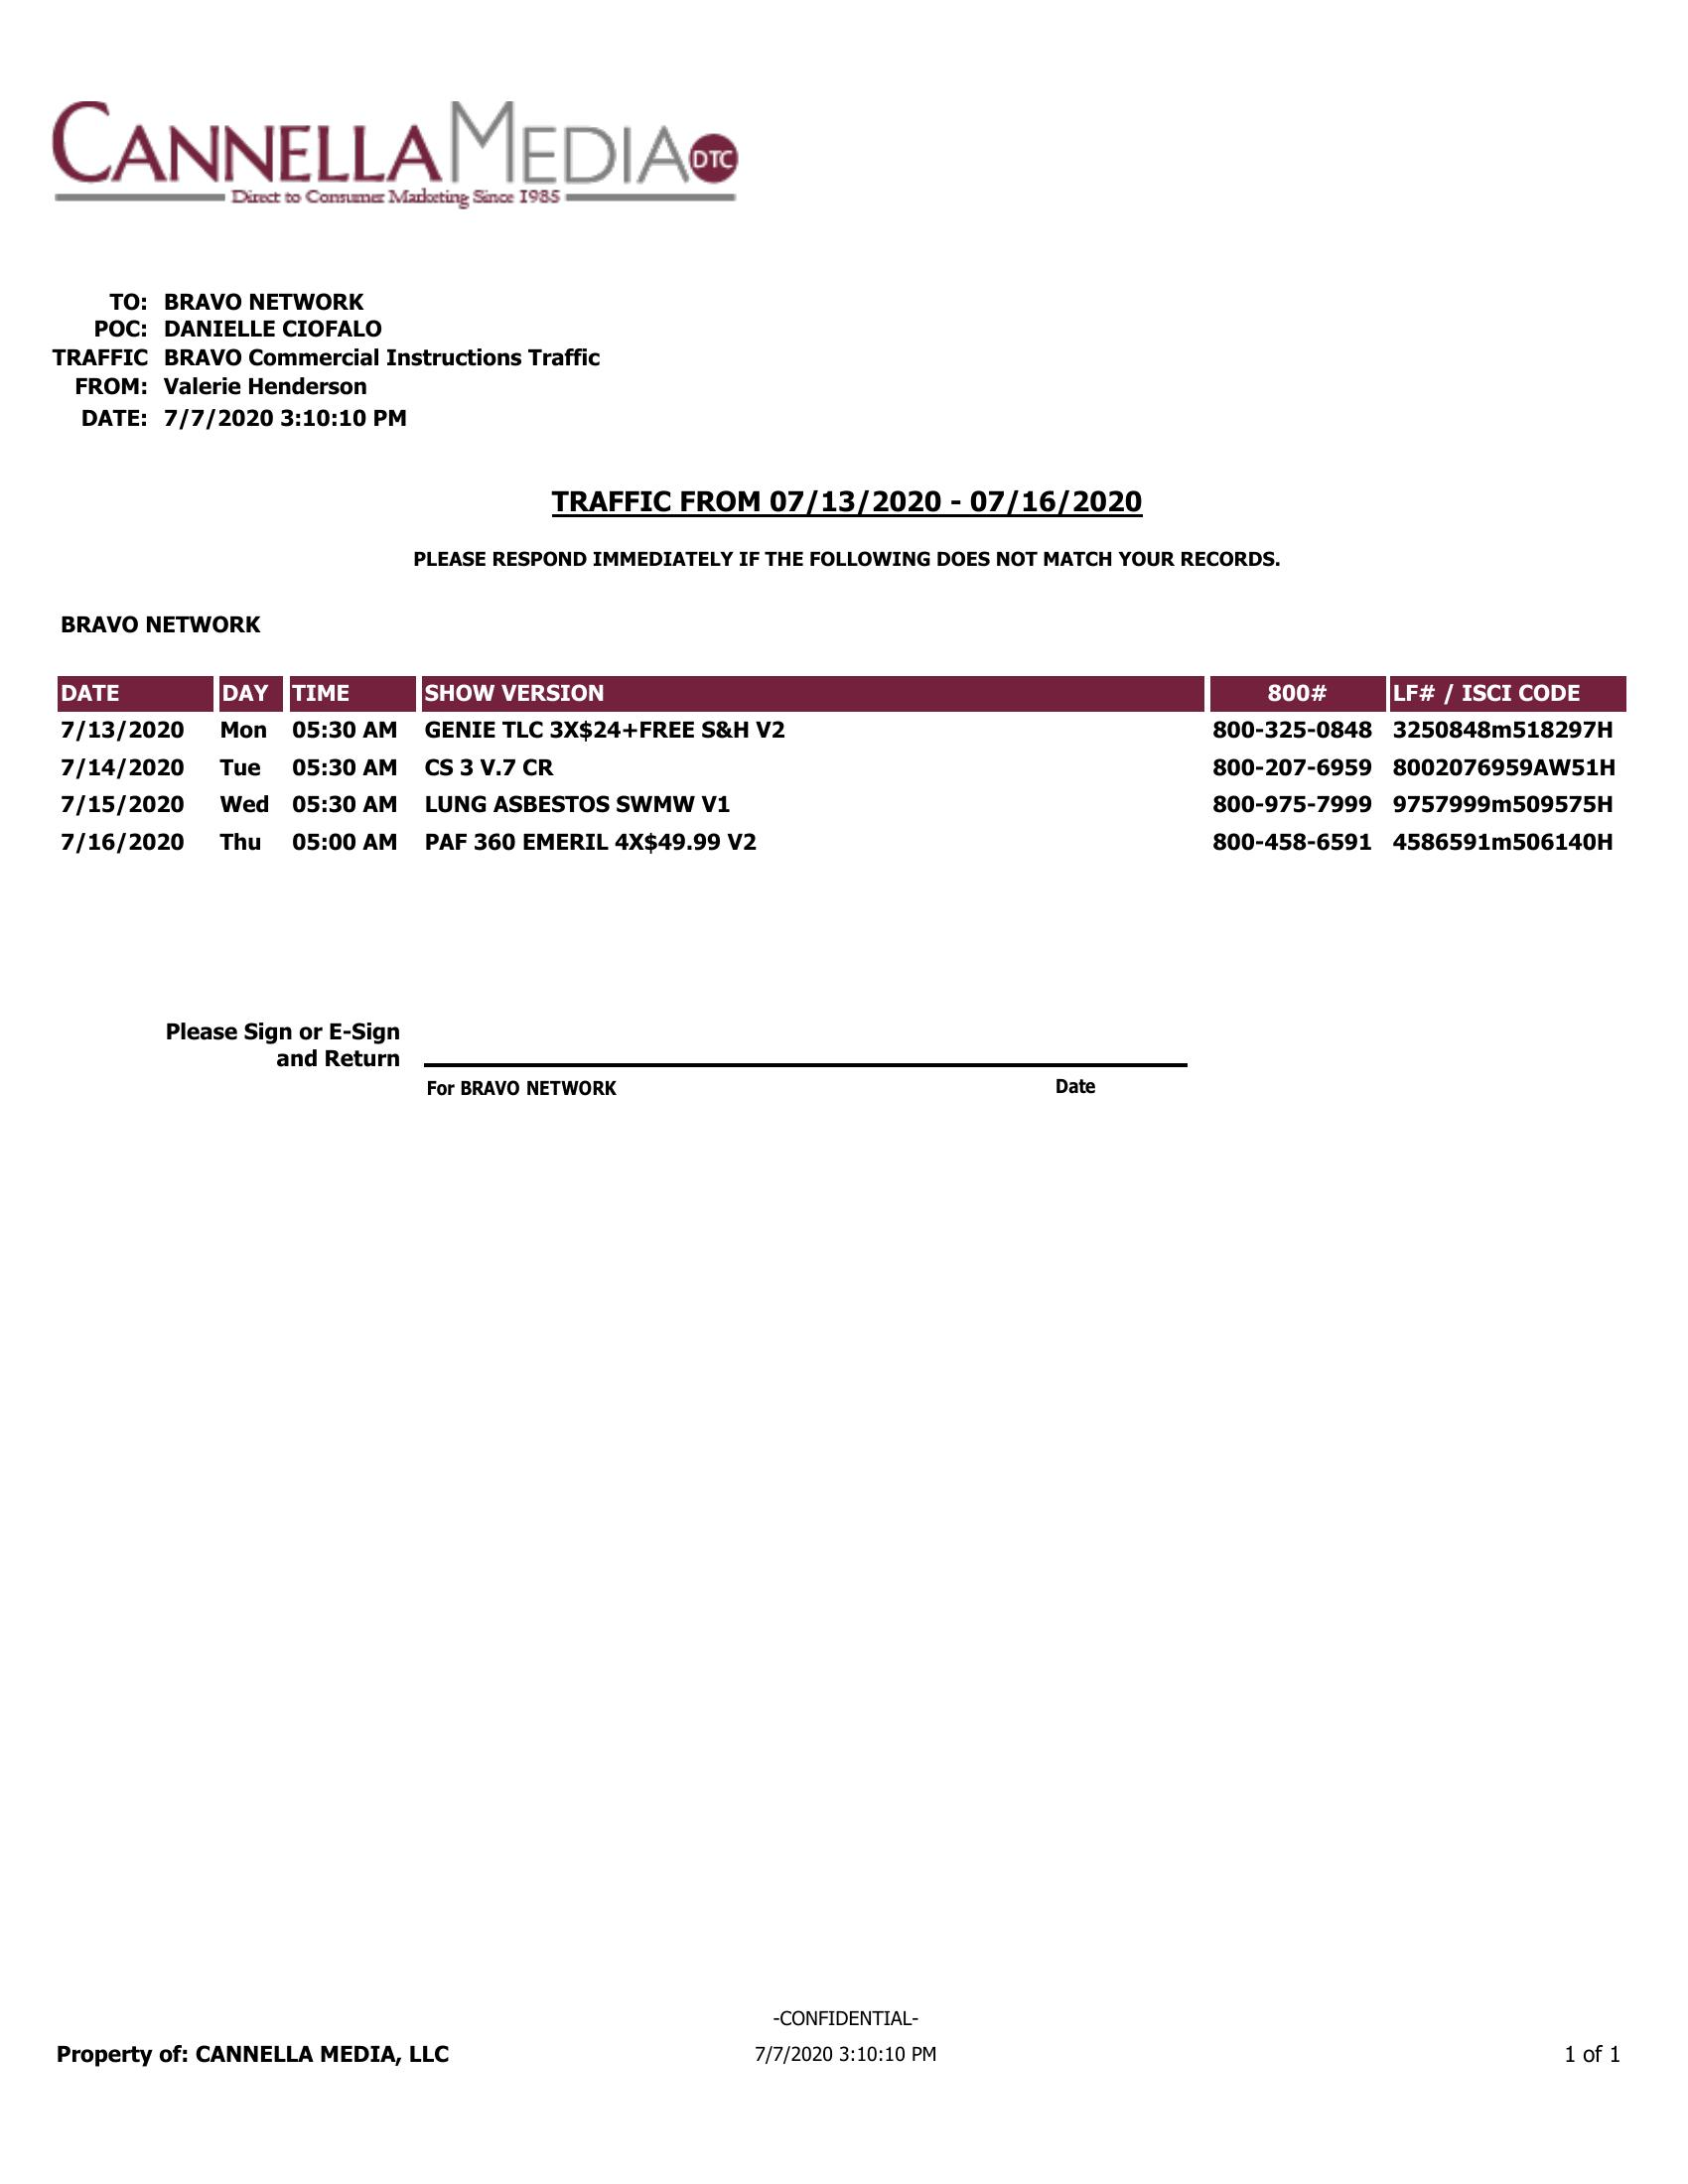table: (35, 658, 1651, 872)
